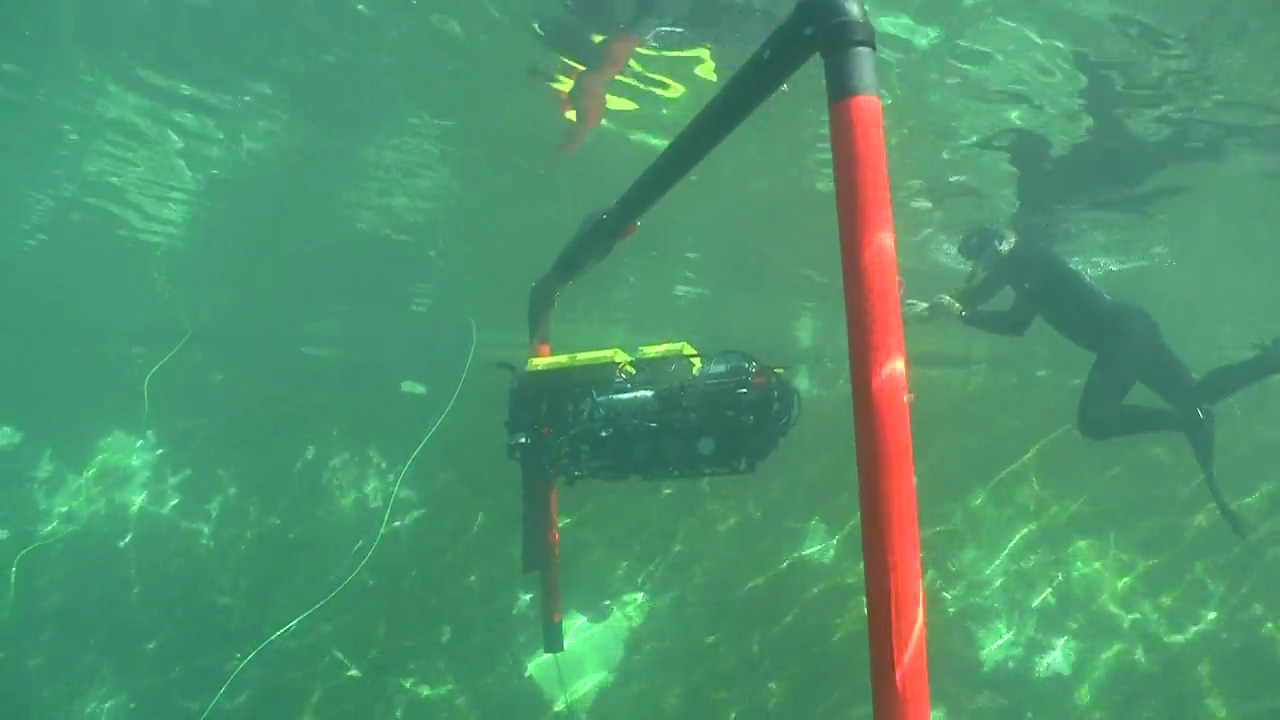gate: (495, 1, 937, 720)
